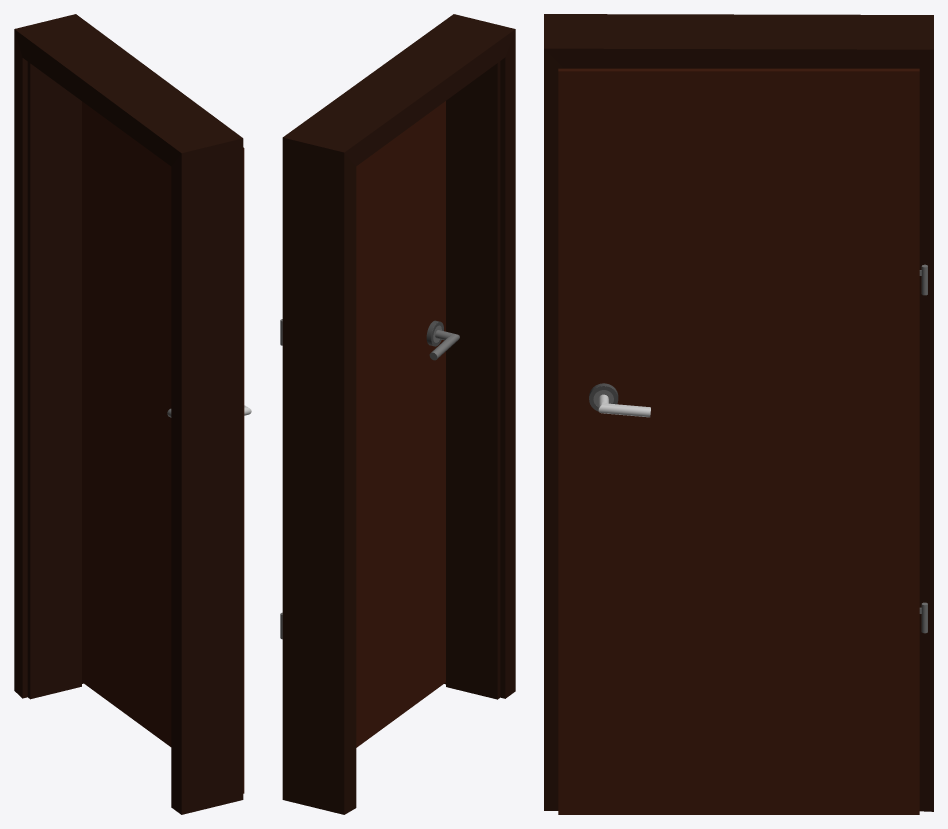
File: door.obj
The picture shows the model from 3 angles, left to right: view 1: azimuth 30°, elevation 25°; view 2: azimuth 150°, elevation 25°; view 3: azimuth 270°, elevation 25°; orthographic projection. The views are drawn at different scales.
Visible parts, largest first — view 1: Cylinder.005, Cylinder.001; view 2: Cylinder.005, Cylinder.001, Circle.001; view 3: Cylinder.001, Cylinder.005.
Boxes of the visible parts, box(x1,y1,x2,y2) form: Cylinder.005: box(14, 14, 243, 814); Cylinder.001: box(82, 101, 244, 793); Cylinder.005: box(280, 14, 515, 814); Cylinder.001: box(280, 101, 445, 747); Circle.001: box(429, 330, 459, 360); Cylinder.001: box(558, 68, 927, 814); Cylinder.005: box(544, 14, 933, 811).
Bounding box in the file's own units: 0.3039 × 2.05 × 0.95.
